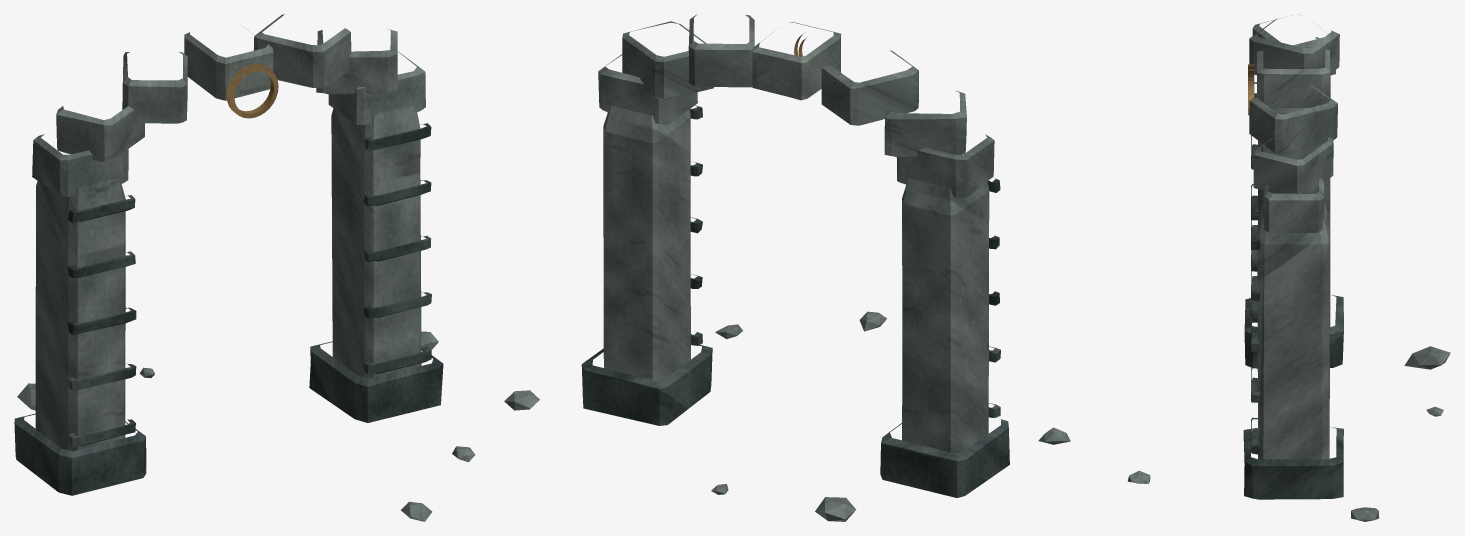
File: 0320_archway_20.glb
3 renders of one model, left to right at view 1: azimuth 30°, elevation 25°; view 2: azimuth 150°, elevation 25°; view 3: azimuth 270°, elevation 25°, orthographic. The views are drawn at different scales.
Parts seen in each view (by area): view 1: stone, stone_dark, brass; view 2: stone, stone_dark; view 3: stone, stone_dark.
Part boxes in pixels (x1,y1,x2,y2): stone: [17, 14, 475, 521]; stone_dark: [14, 123, 443, 495]; brass: [226, 64, 278, 118]; stone: [504, 14, 994, 521]; stone_dark: [581, 105, 1009, 497]; stone: [1038, 14, 1450, 521]; stone_dark: [1243, 82, 1343, 499].
Bounding box in the file's own units: 3.96 × 3.42 × 3.56.
3 materials, 3 textured.
